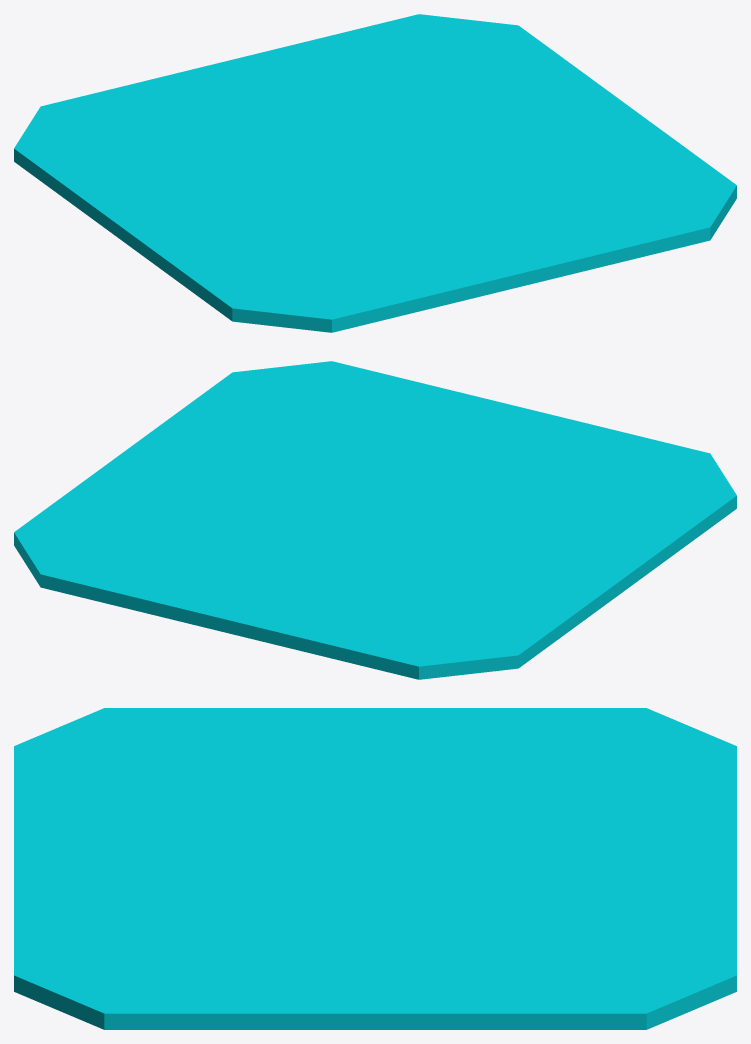
File: openedLiftToGame.glb
3 renders of one model, top to bottom at view 1: azimuth 30°, elevation 25°; view 2: azimuth 150°, elevation 25°; view 3: azimuth 270°, elevation 25°, orthographic. The views are drawn at different scales.
Parts seen in each view (by area): view 1: liftToGame; view 2: liftToGame; view 3: liftToGame.
Part boxes in pixels (x1,y1,x2,y2): liftToGame: (14,14,736,332); liftToGame: (14,361,736,679); liftToGame: (14,708,736,1029).
Size of what is drawn, in the model's own units: 2 by 0.05 by 2.
